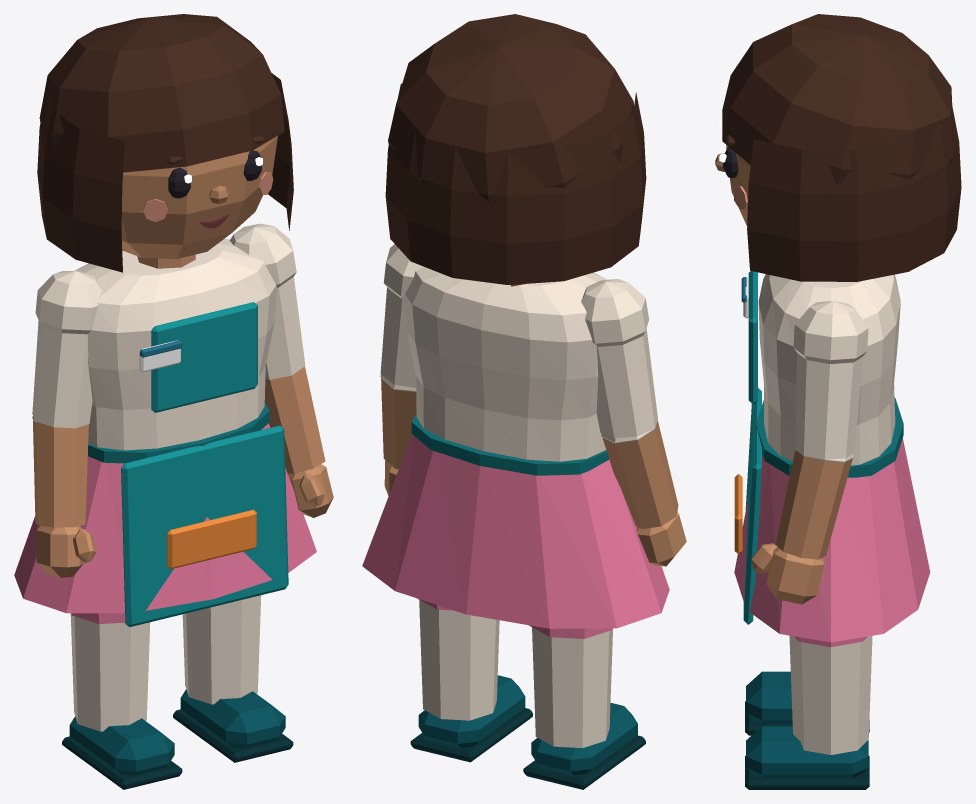
File: kas_cor.glb
3 views of the same model, side by side, from view 1: azimuth 30°, elevation 25°; view 2: azimuth 150°, elevation 25°; view 3: azimuth 270°, elevation 25° (orthographic).
Visible parts, largest first — view 1: haare, schürze, torso, rock, arm_r, kopf, arm_l, bein_r, bein_l, schuh_r, schuh_l, hand_r (+3 smaller); view 2: haare, rock, torso, arm_r, bein_r, bein_l, arm_l, schuh_l, schuh_r, schürze, hand_r; view 3: haare, rock, arm_l, torso, bein_l, schürze, schuh_l, hand_l, schuh_r, gesicht, kopf.
Boxes of the visible parts, <box> form: haare: <box>37,14,293,272</box>; schürze: <box>88,302,288,626</box>; torso: <box>74,239,276,450</box>; rock: <box>14,423,316,613</box>; arm_r: <box>32,270,101,527</box>; kopf: <box>121,136,277,258</box>; arm_l: <box>229,223,325,473</box>; bein_r: <box>70,613,150,731</box>; bein_l: <box>182,595,261,704</box>; schuh_r: <box>62,716,182,789</box>; schuh_l: <box>173,689,293,762</box>; hand_r: <box>36,526,96,577</box>; haare: <box>385,14,646,284</box>; rock: <box>362,434,669,628</box>; torso: <box>404,267,607,461</box>; arm_r: <box>581,279,678,528</box>; bein_r: <box>529,625,612,748</box>; bein_l: <box>417,598,499,720</box>; arm_l: <box>380,244,423,469</box>; schuh_l: <box>410,675,532,762</box>; schuh_r: <box>523,703,645,789</box>; schürze: <box>411,413,609,475</box>; hand_r: <box>637,512,686,566</box>; haare: <box>722,14,961,281</box>; rock: <box>734,438,930,642</box>; arm_l: <box>775,301,868,559</box>; torso: <box>758,274,900,465</box>; bein_l: <box>789,635,872,754</box>; schürze: <box>734,271,903,624</box>; schuh_l: <box>745,726,869,789</box>; hand_l: <box>751,543,824,604</box>; schuh_r: <box>745,671,869,735</box>; gesicht: <box>715,119,747,209</box>; kopf: <box>726,145,750,226</box>.
Size of the model in its own units: 0.0103 by 0.0245 by 0.00763.
